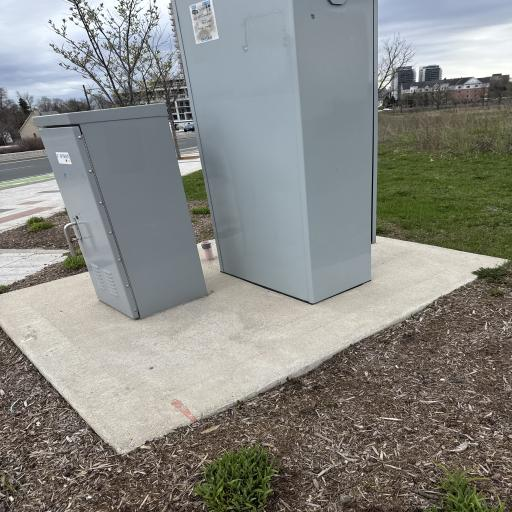Electrical Box: (170, 2, 378, 303), (30, 102, 212, 317)
